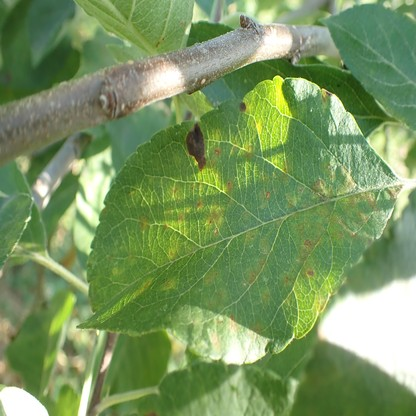scab: (88, 90, 402, 350)
